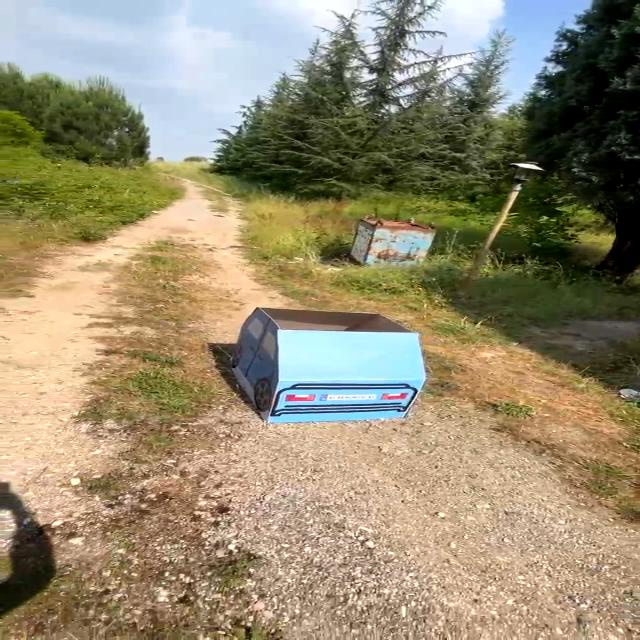blue_car: (206, 297, 452, 426)
